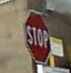stop: (22, 5, 52, 65)
